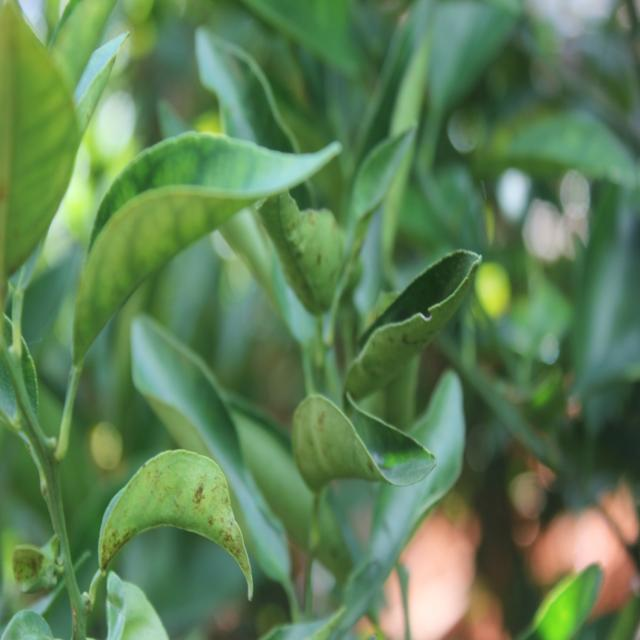melanose: (94, 444, 274, 595), (341, 230, 481, 388), (288, 390, 431, 510), (278, 177, 352, 328)
